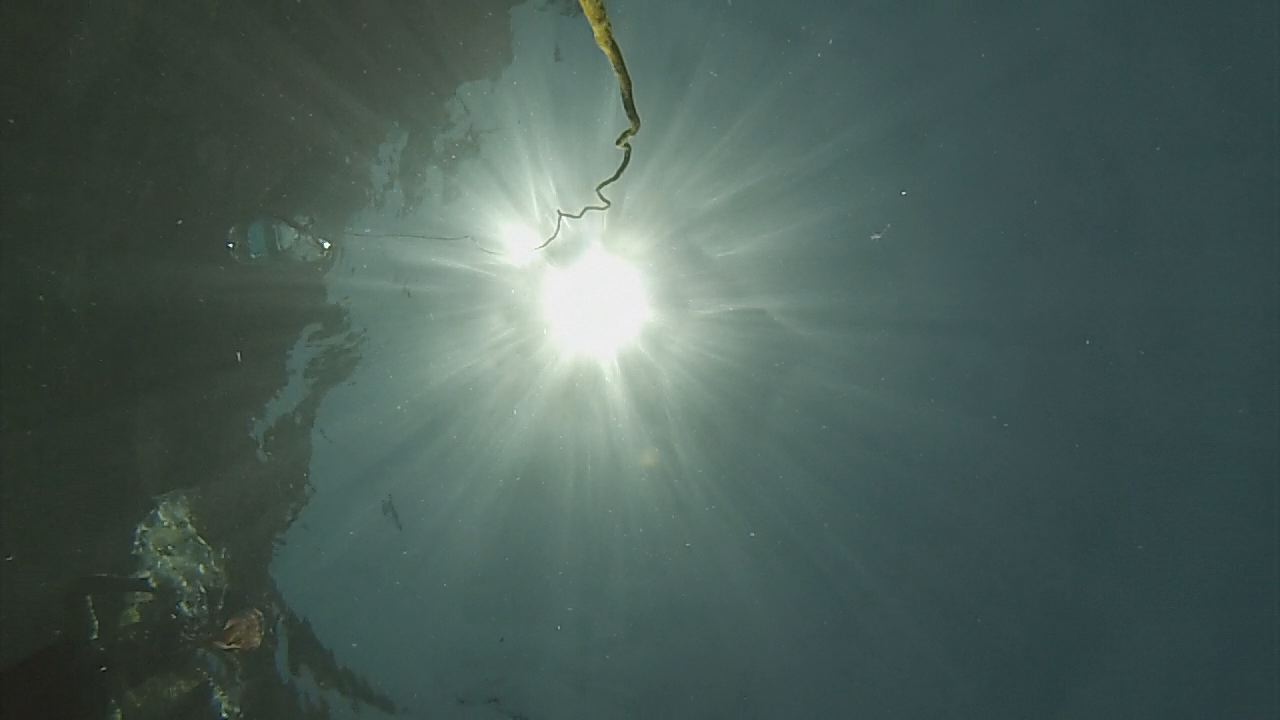pelagia: (208, 605, 272, 661)
